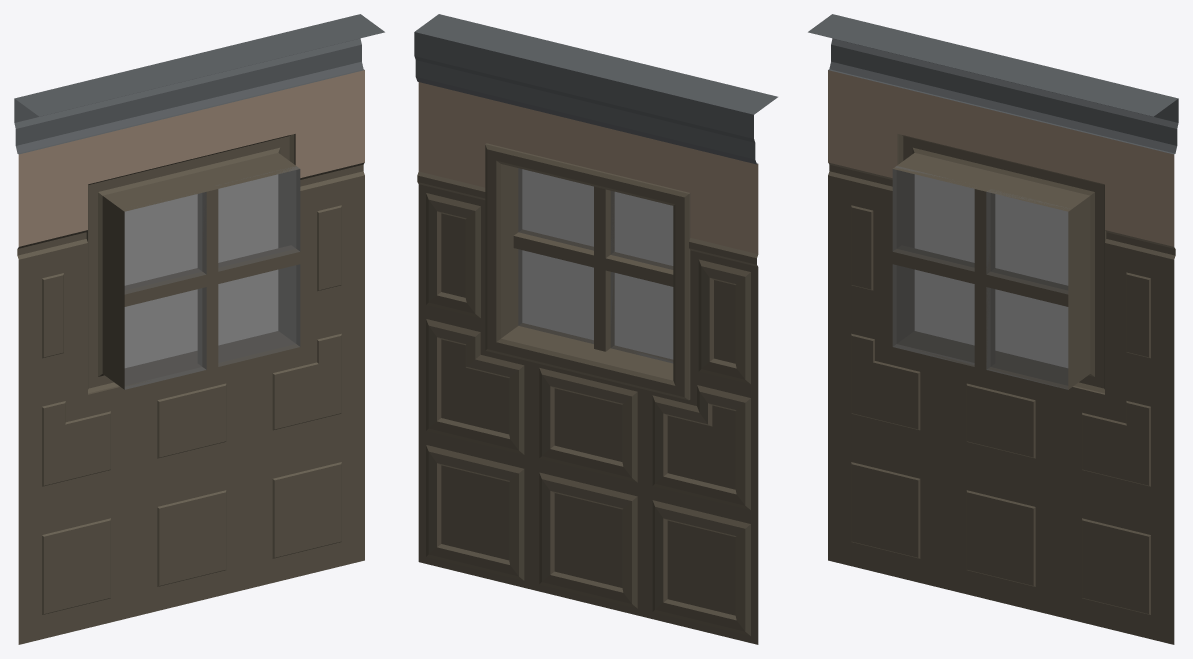
File: Fancy_Window.fbx
3 views of the same model, side by side, from view 1: azimuth 30°, elevation 25°; view 2: azimuth 150°, elevation 25°; view 3: azimuth 330°, elevation 25° (orthographic).
Parts seen in each view (by area): view 1: Wall_1.020; view 2: Wall_1.020; view 3: Wall_1.020.
Part boxes in pixels (<box>): Wall_1.020: <box>14,14,384,644</box>; Wall_1.020: <box>414,14,777,644</box>; Wall_1.020: <box>808,14,1178,644</box>.
Bounding box in the file's own units: 200 × 300 × 25.
